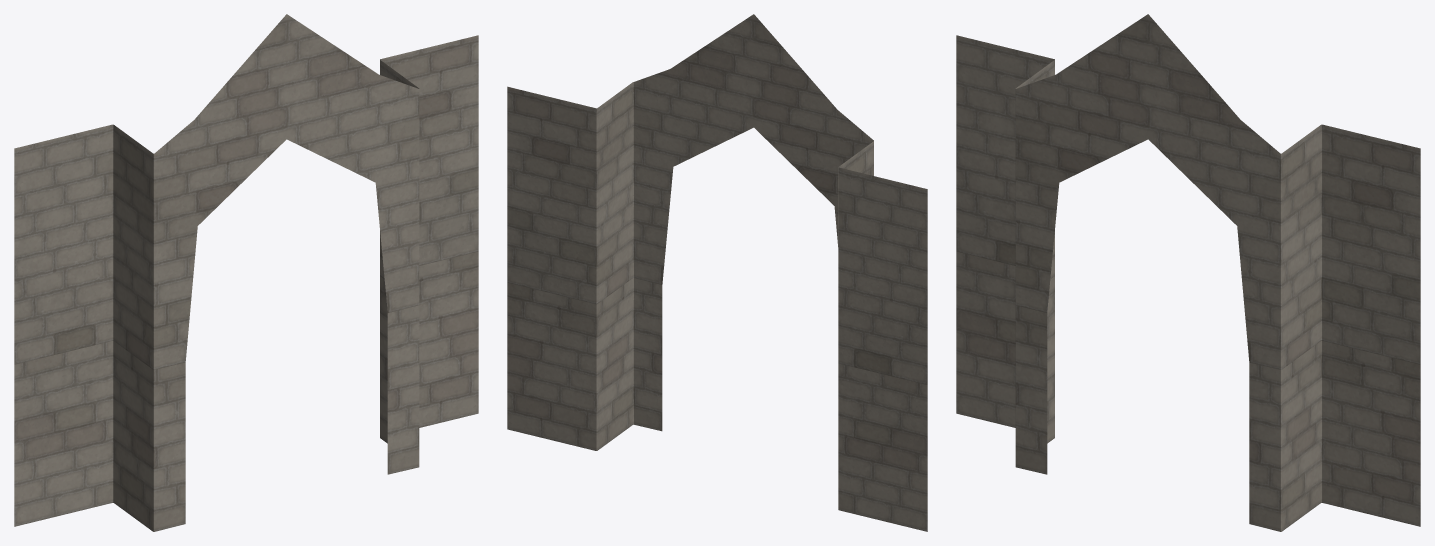
File: ExteriorMainEntrance_Front.fbx
The picture shows the model from 3 angles, left to right: view 1: azimuth 30°, elevation 25°; view 2: azimuth 150°, elevation 25°; view 3: azimuth 330°, elevation 25°; orthographic projection. The views are drawn at different scales.
Parts seen in each view (by area): view 1: ExteriorMainEntrance_Front; view 2: ExteriorMainEntrance_Front; view 3: ExteriorMainEntrance_Front.
Part boxes in pixels (bbox=[...]): ExteriorMainEntrance_Front: bbox=[14, 14, 478, 531]; ExteriorMainEntrance_Front: bbox=[507, 14, 927, 531]; ExteriorMainEntrance_Front: bbox=[956, 14, 1420, 531].
Bounding box in the file's own units: 1500 × 1500 × 225.
Materials: 1 (1 with a texture image).
